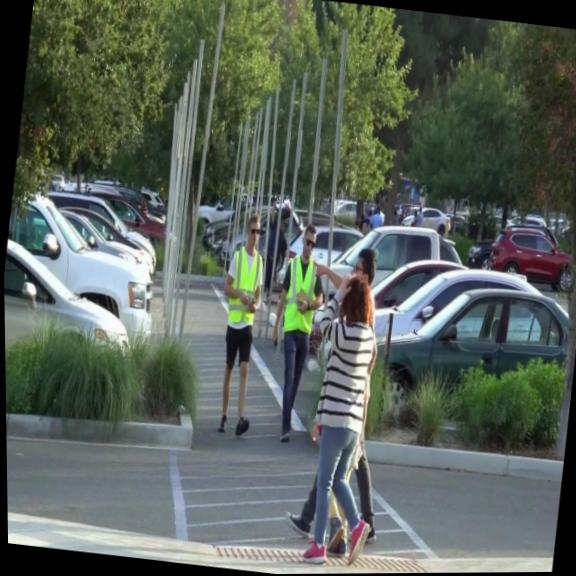safety_vest: (223, 245, 265, 328), (279, 252, 320, 337)
